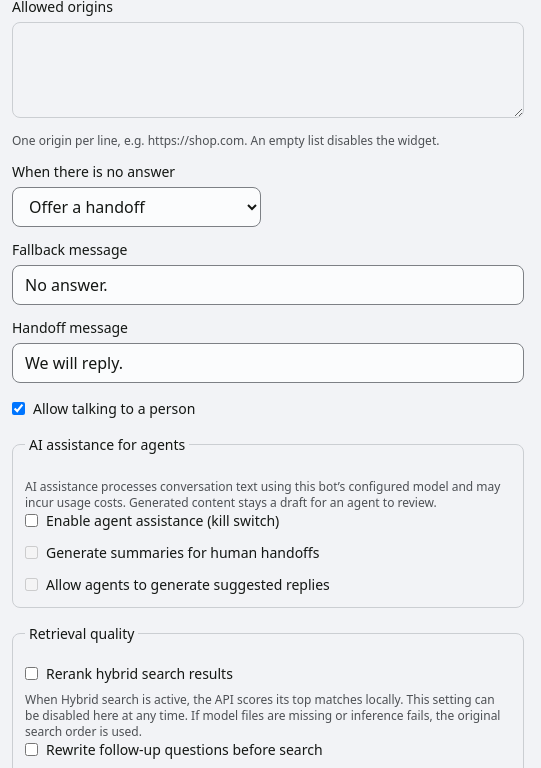
Test case: BotBehaviorForm › rejects an origin with a path, with the API wording
The image size is (541, 768).
Type "https://shop.com/app" into the text box labelled "Allowed origins" at (268, 70), box [12, 22, 524, 118]
(page scrolled)
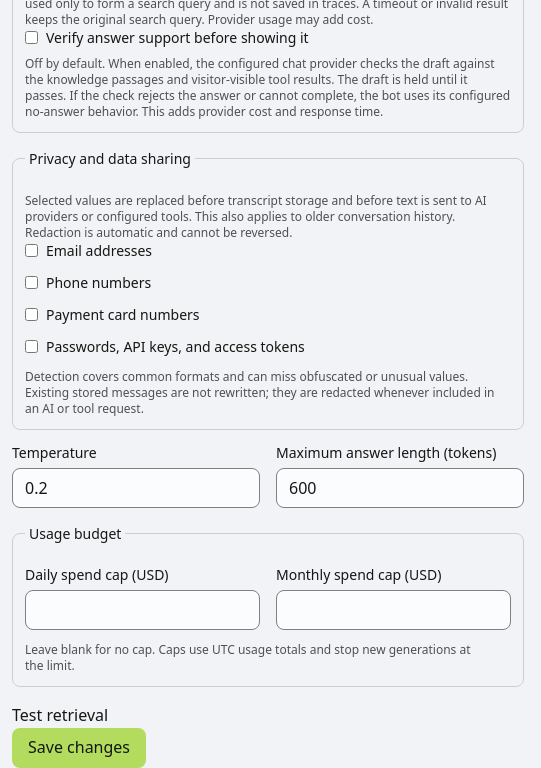
Click the button "Save changes" at (79, 748), box [12, 728, 146, 767]
(page scrolled)
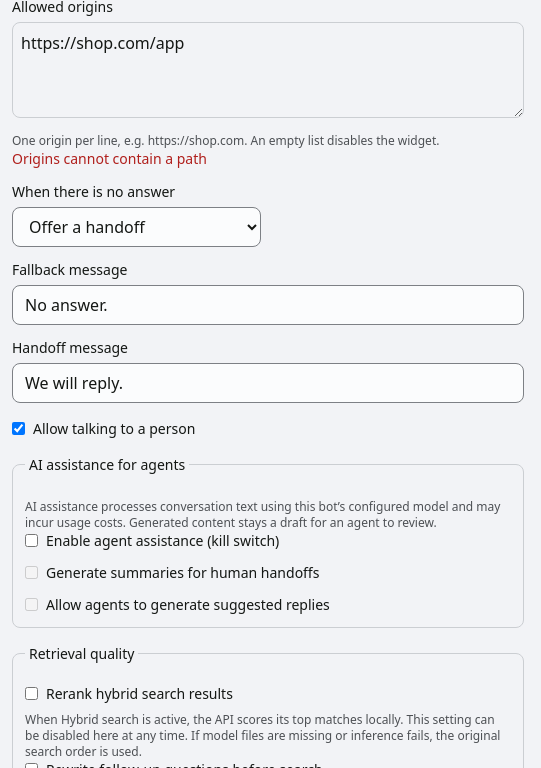
Check: the text "Origins cannot contain a path" is shown, box [12, 149, 207, 168]
